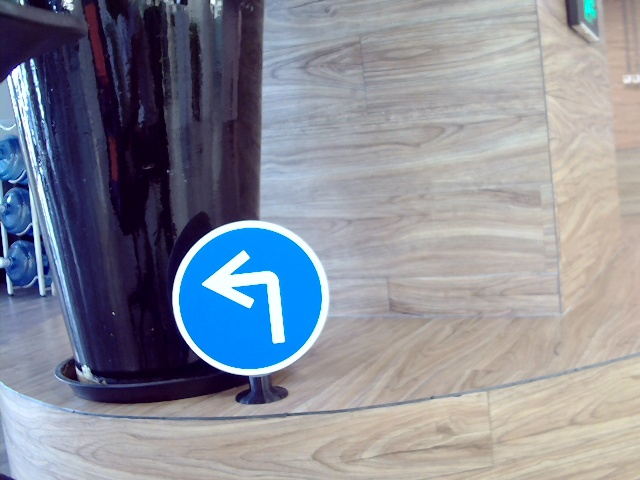turn_left: (199, 250, 291, 349)
